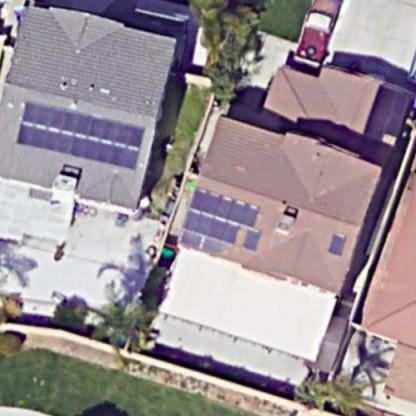car: (295, 2, 342, 67)
solar_panel: (1, 85, 149, 175), (175, 179, 264, 257), (323, 227, 348, 259)
